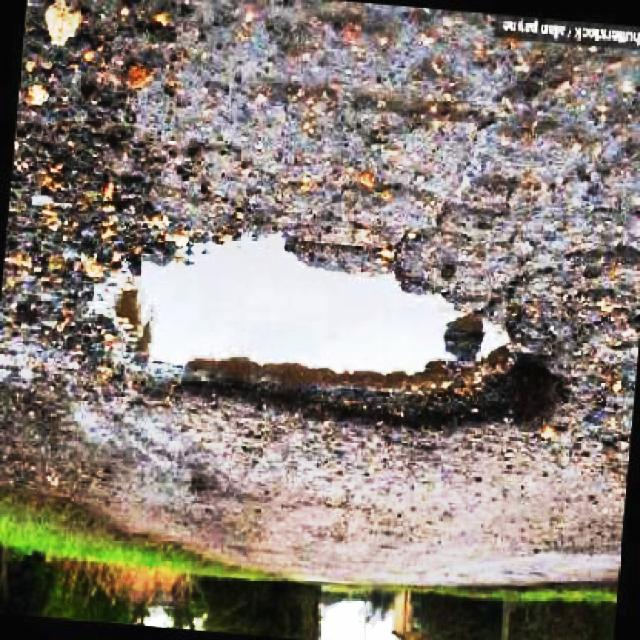pothole: (92, 214, 578, 438)
